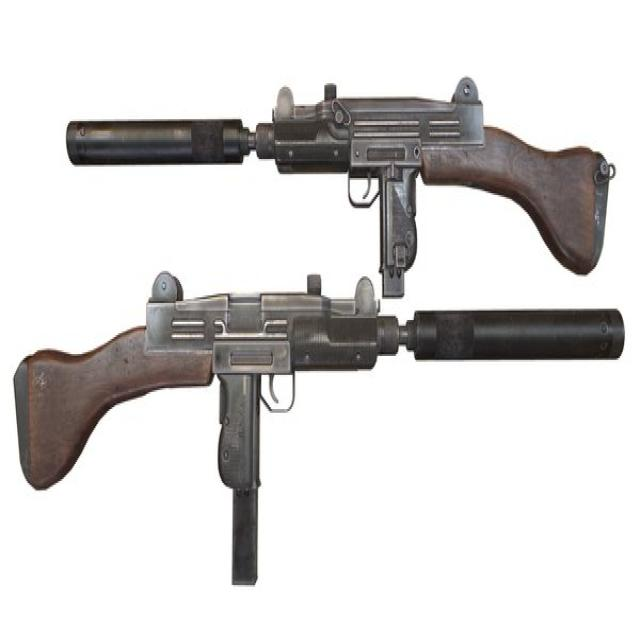SMG: (13, 273, 627, 589), (66, 78, 618, 301)
